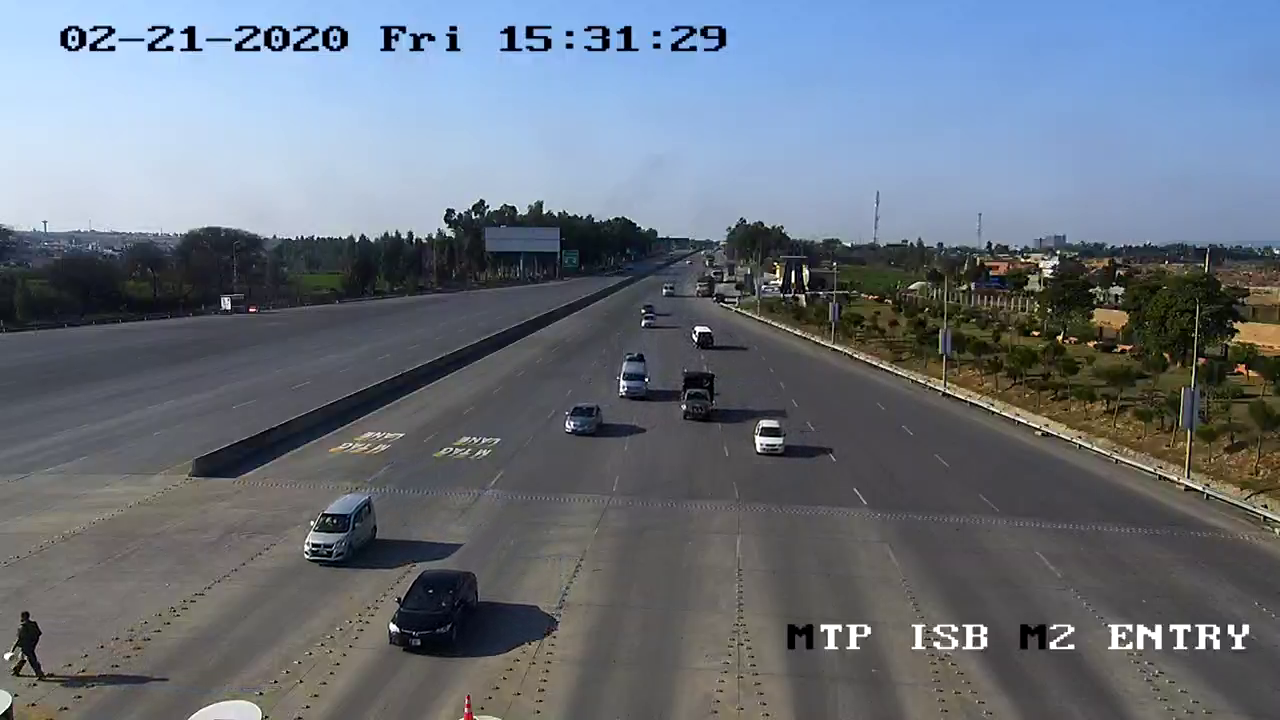f1: (382, 560, 491, 672), (286, 486, 389, 572), (745, 408, 794, 468), (559, 391, 611, 443)
f2: (671, 361, 725, 429)
f3: (609, 349, 659, 411)
